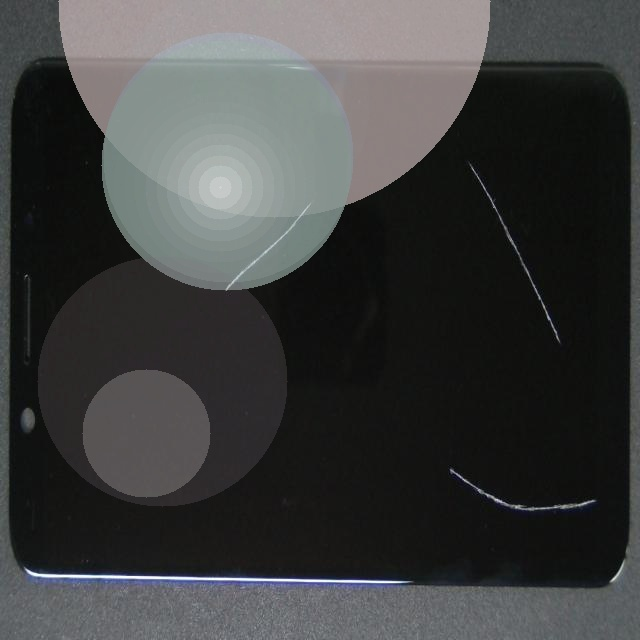scratch: (298, 275, 640, 640), (212, 37, 424, 311), (338, 288, 640, 427)
